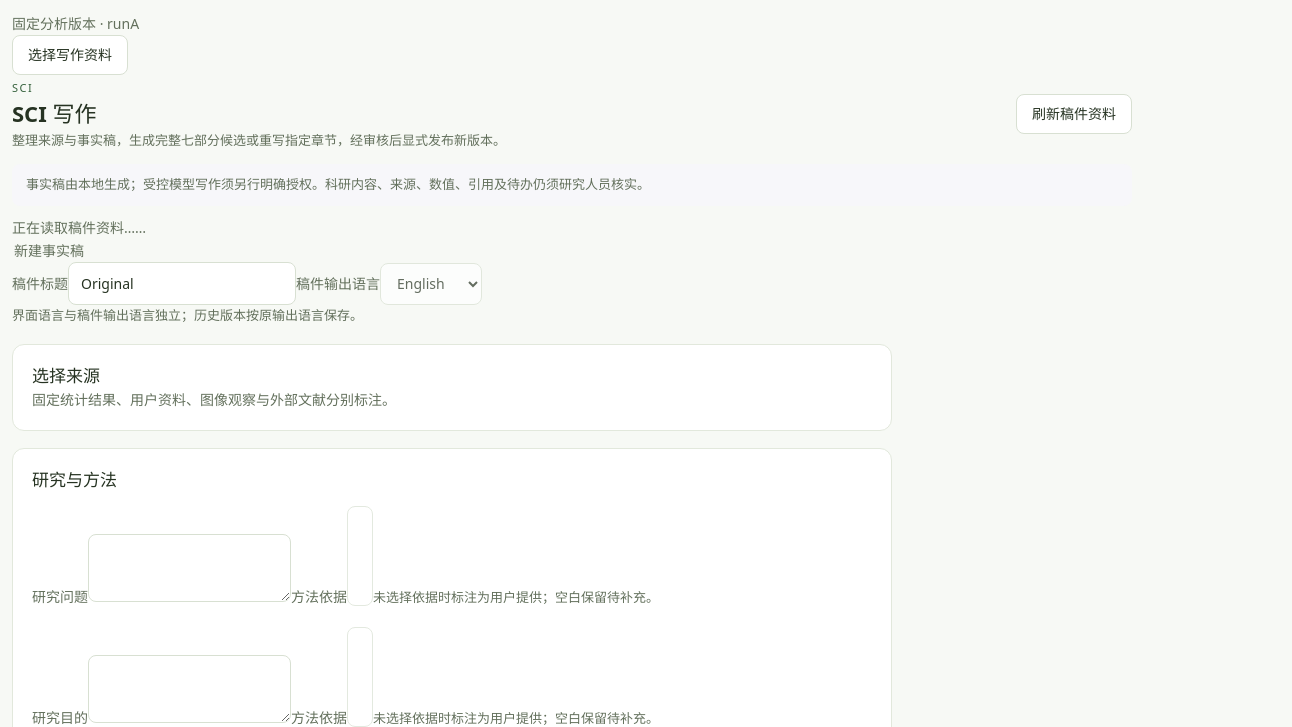
Scenario: sends explicitly selected historical A to sci via server-verified packet without latest/model/save request
Click the button "选择写作资料". click: click(70, 55)
box: [12,35,128,75]
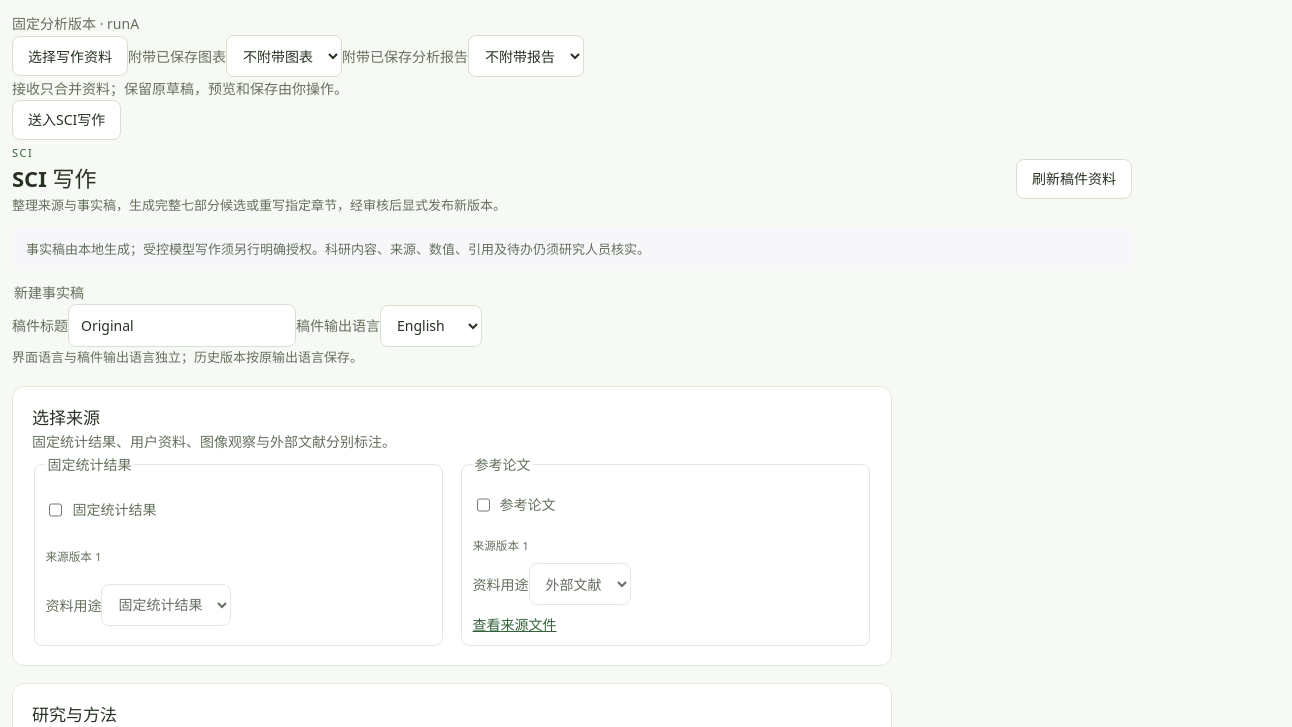
Click the button "送入SCI写作". click: click(67, 120)
box: [12,100,121,140]
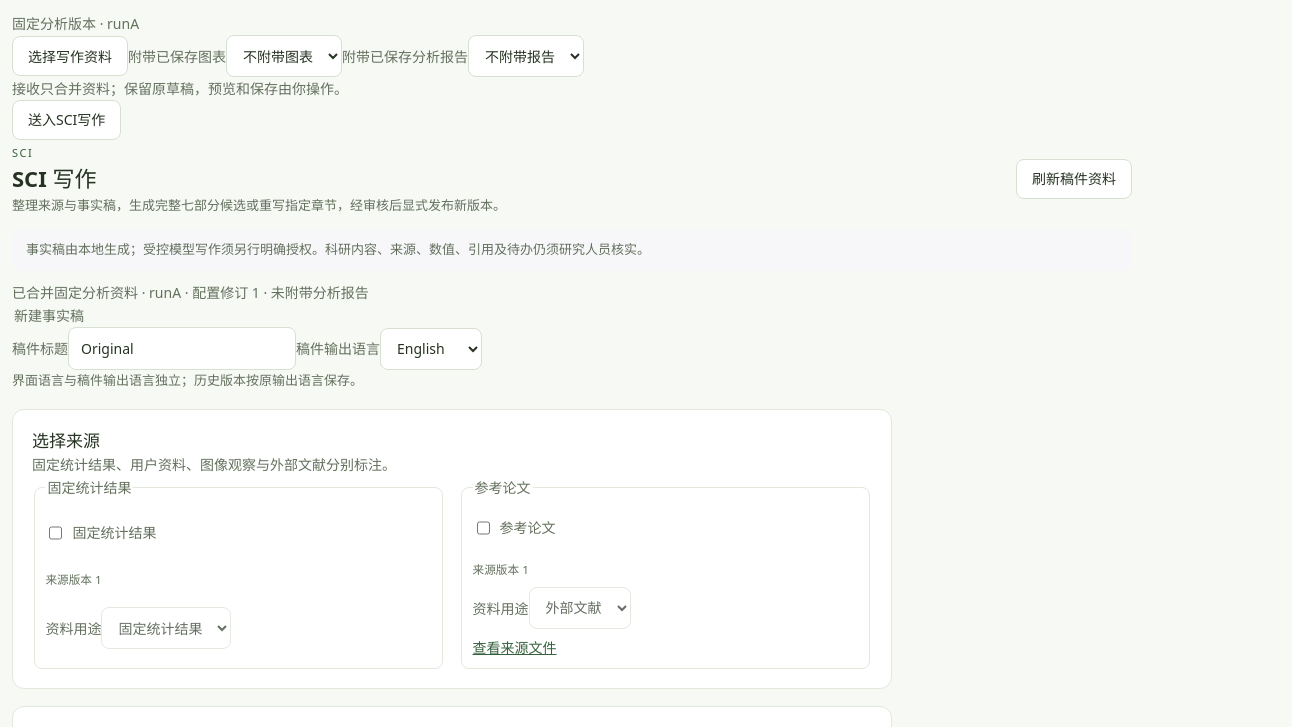
Result: the text "已合并固定分析资料 · runA · 配置修订 1 · 未附带分析报告" is shown at [12,283,369,302]
